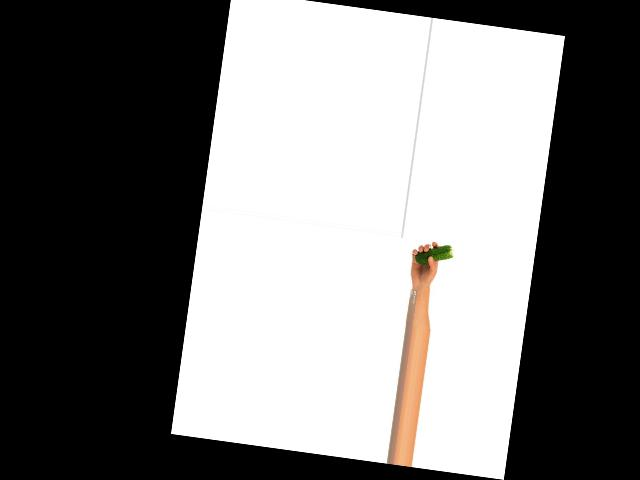cucumber: (413, 241, 454, 268)
